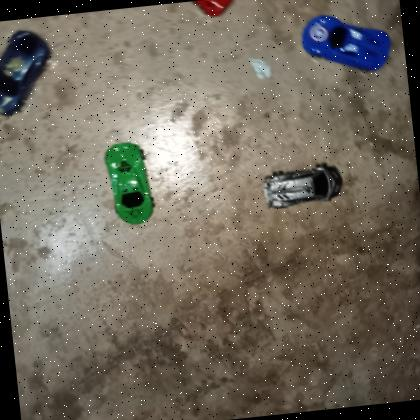Car: (298, 6, 396, 81), (103, 140, 158, 227), (259, 160, 348, 212)
